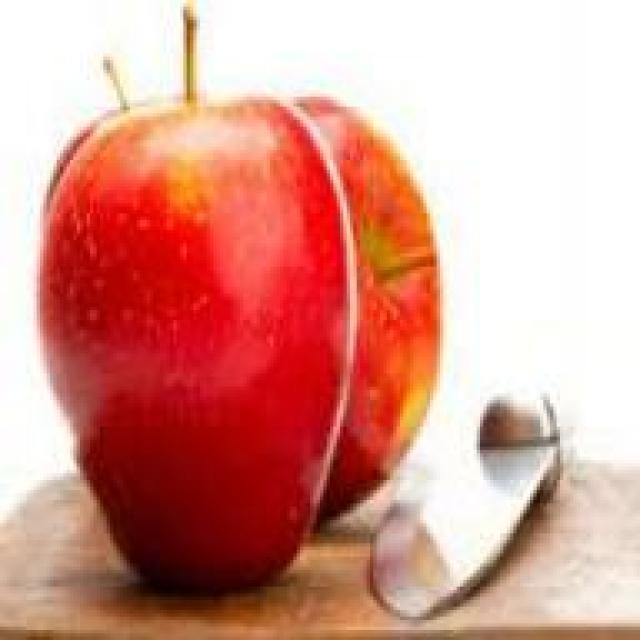apple: (53, 107, 347, 583), (270, 93, 440, 530)
